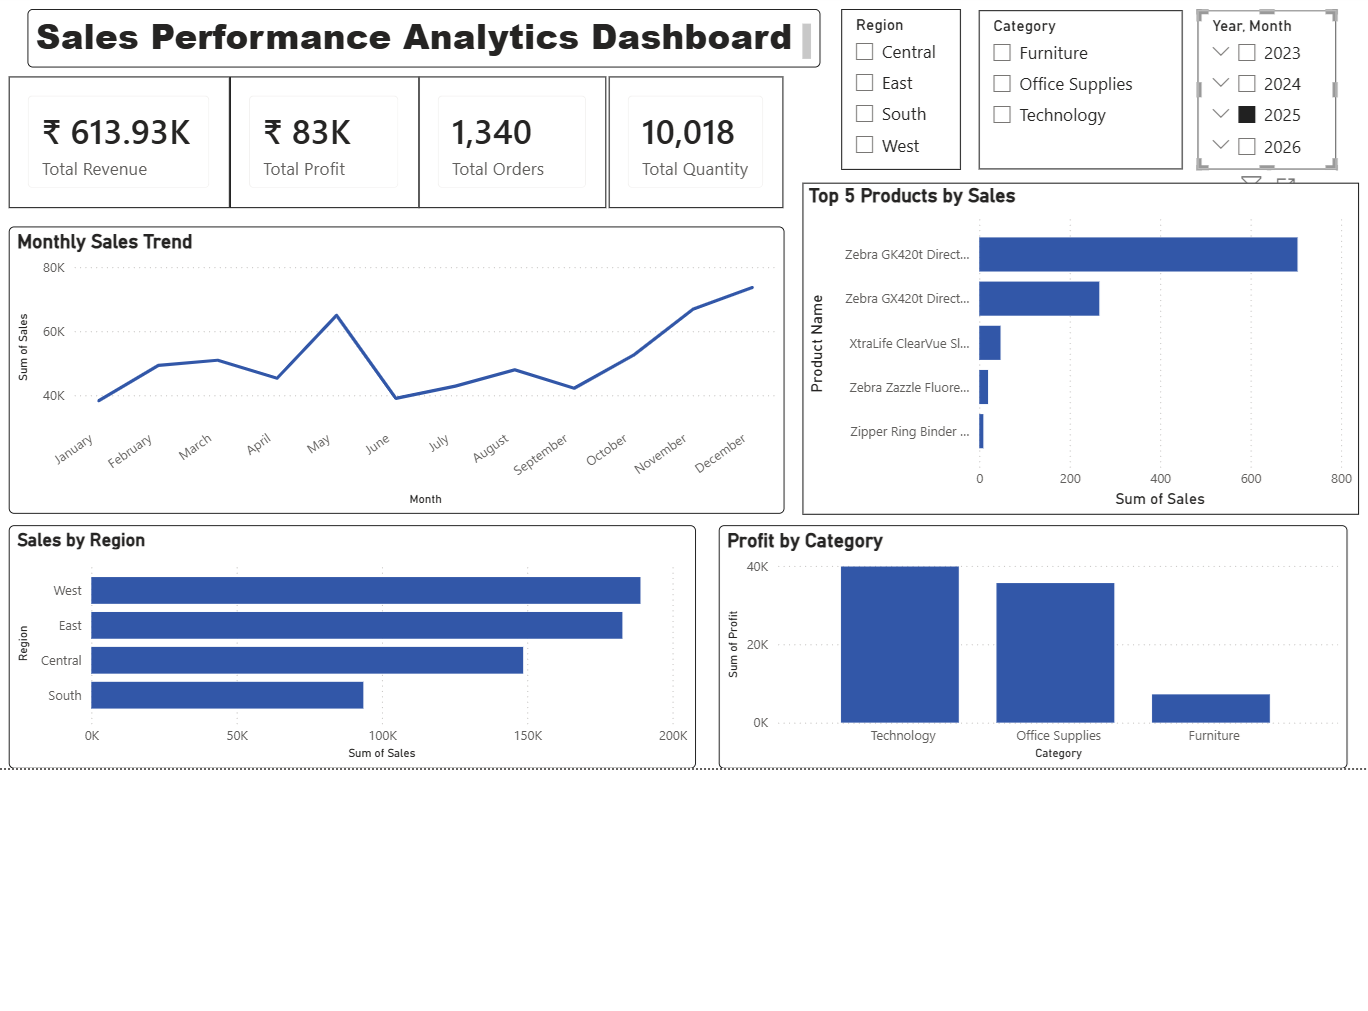

The page's visual inventory and layout, read from the dashboard file:
{"tool":"powerbi","page":{"name":"Page 1","canvas":[1280,720],"ordinal":0},"visuals":[{"type":"cardVisual","fields":{"Data":["Sum(samplesuperstore.Sales)"]},"box":[12.3,76.8,205.8,122.1],"z":0},{"type":"cardVisual","fields":{"Data":["Sum(samplesuperstore.Profit)"]},"box":[218.2,76.8,175.6,122.1],"z":1000},{"type":"cardVisual","fields":{"Data":["Count(samplesuperstore.Order ID)"]},"box":[394.2,76.7,174.4,122.1],"z":2000},{"type":"cardVisual","fields":{"Data":["Sum(samplesuperstore.Quantity)"]},"box":[570.9,76.7,162.8,122.1],"z":3000},{"type":"lineChart","title":"Monthly Sales Trend","fields":{"Y":["Sum(samplesuperstore.Sales)"],"Category":["samplesuperstore.Order Date.Variation.Date Hierarchy.Month"]},"box":[12.3,216.8,721.8,267.6],"z":4000},{"type":"clusteredBarChart","title":"Sales by Region","fields":{"Category":["samplesuperstore.Region"],"Y":["Sum(samplesuperstore.Sales)"]},"box":[12.3,494,639.5,226.4],"z":5000},{"type":"clusteredColumnChart","title":"Profit by Category","fields":{"Category":["samplesuperstore.Category"],"Y":["Sum(samplesuperstore.Profit)"]},"box":[673.8,494,584.6,226.4],"z":6000},{"type":"slicer","fields":{"Values":["samplesuperstore.Region"]},"box":[787.7,13.7,111.1,149.6],"z":7000},{"type":"slicer","fields":{"Values":["samplesuperstore.Category"]},"box":[915.3,15.1,189.4,148.2],"z":8000},{"type":"slicer","fields":{"Values":["samplesuperstore.Order Date.Variation.Date Hierarchy.Year","samplesuperstore.Order Date.Variation.Date Hierarchy.Month"]},"box":[1118.4,15.1,129,148.2],"z":9000},{"type":"textbox","box":[30.2,14,737.2,54.7],"z":10000},{"type":"barChart","title":"Top 5 Products by Sales","fields":{"Category":["samplesuperstore.Product Name"],"Y":["Sum(samplesuperstore.Sales)"]},"box":[750.6,175.6,517.3,308.7],"z":11000}]}

Visuals, with their boxes in screenshot pixels (x1, y1, x2, y2):
cardVisual - Sum(samplesuperstore.Sales): 3/70/228/203
cardVisual - Sum(samplesuperstore.Profit): 228/70/420/203
cardVisual - Count(samplesuperstore.Order ID): 420/70/611/203
cardVisual - Sum(samplesuperstore.Quantity): 613/70/791/203
"Monthly Sales Trend" lineChart: 3/223/791/515
"Sales by Region" clusteredBarChart: 3/526/702/773
"Profit by Category" clusteredColumnChart: 726/526/1364/773
slicer - samplesuperstore.Region: 850/1/971/164
slicer - samplesuperstore.Category: 989/2/1196/164
slicer - samplesuperstore.Order Date.Variation.Date Hierarchy.Year x samplesuperstore.Order Date.Variation.Date Hierarchy.Month: 1211/2/1352/164
textbox: 22/1/828/61
"Top 5 Products by Sales" barChart: 809/178/1367/515
